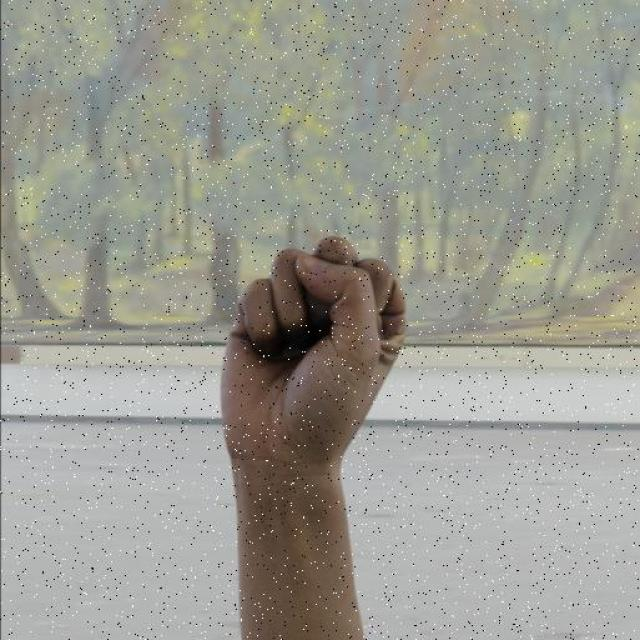S: (215, 234, 415, 475)
